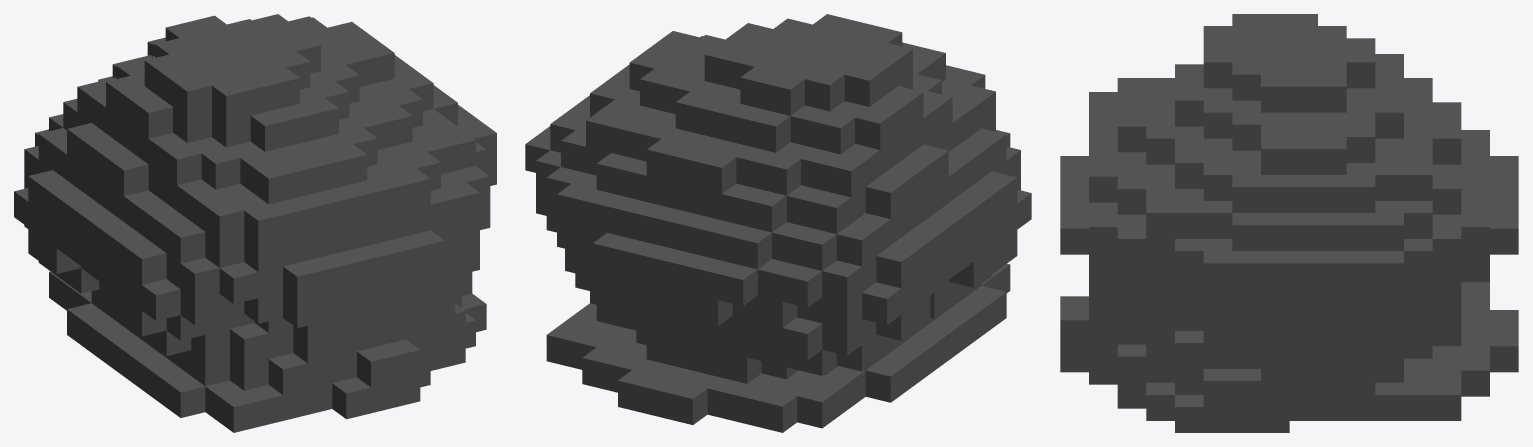
The model's file is rock_a.obj.
3 renders of one model, left to right at view 1: azimuth 30°, elevation 25°; view 2: azimuth 150°, elevation 25°; view 3: azimuth 270°, elevation 25°, orthographic.
Size of the model in its own units: 1.5 by 1.1 by 1.6.
